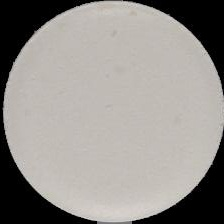51079-300: (0, 0, 224, 224)
